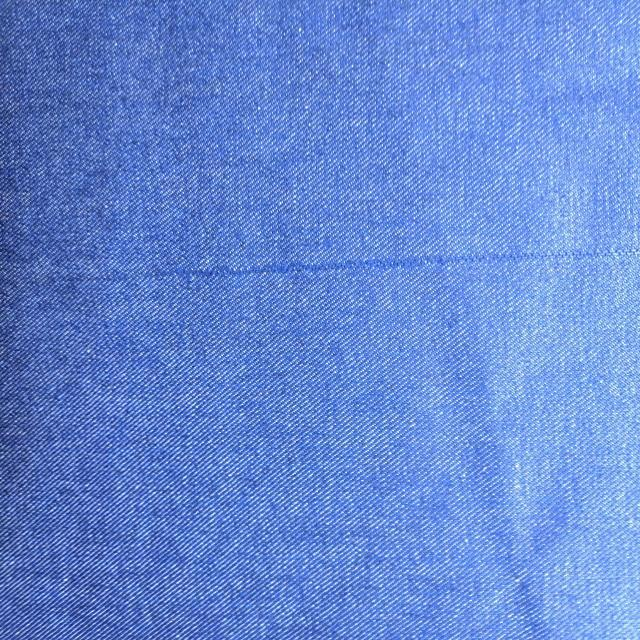Line: (58, 243, 638, 290)
